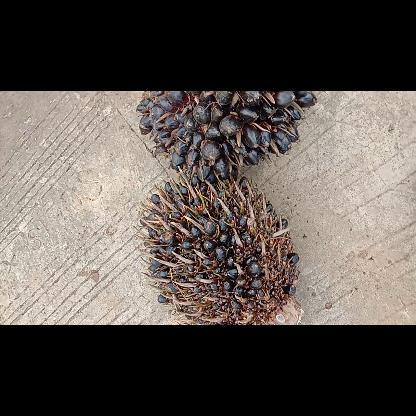TBS mentah: (140, 172, 310, 324), (134, 90, 316, 184)
